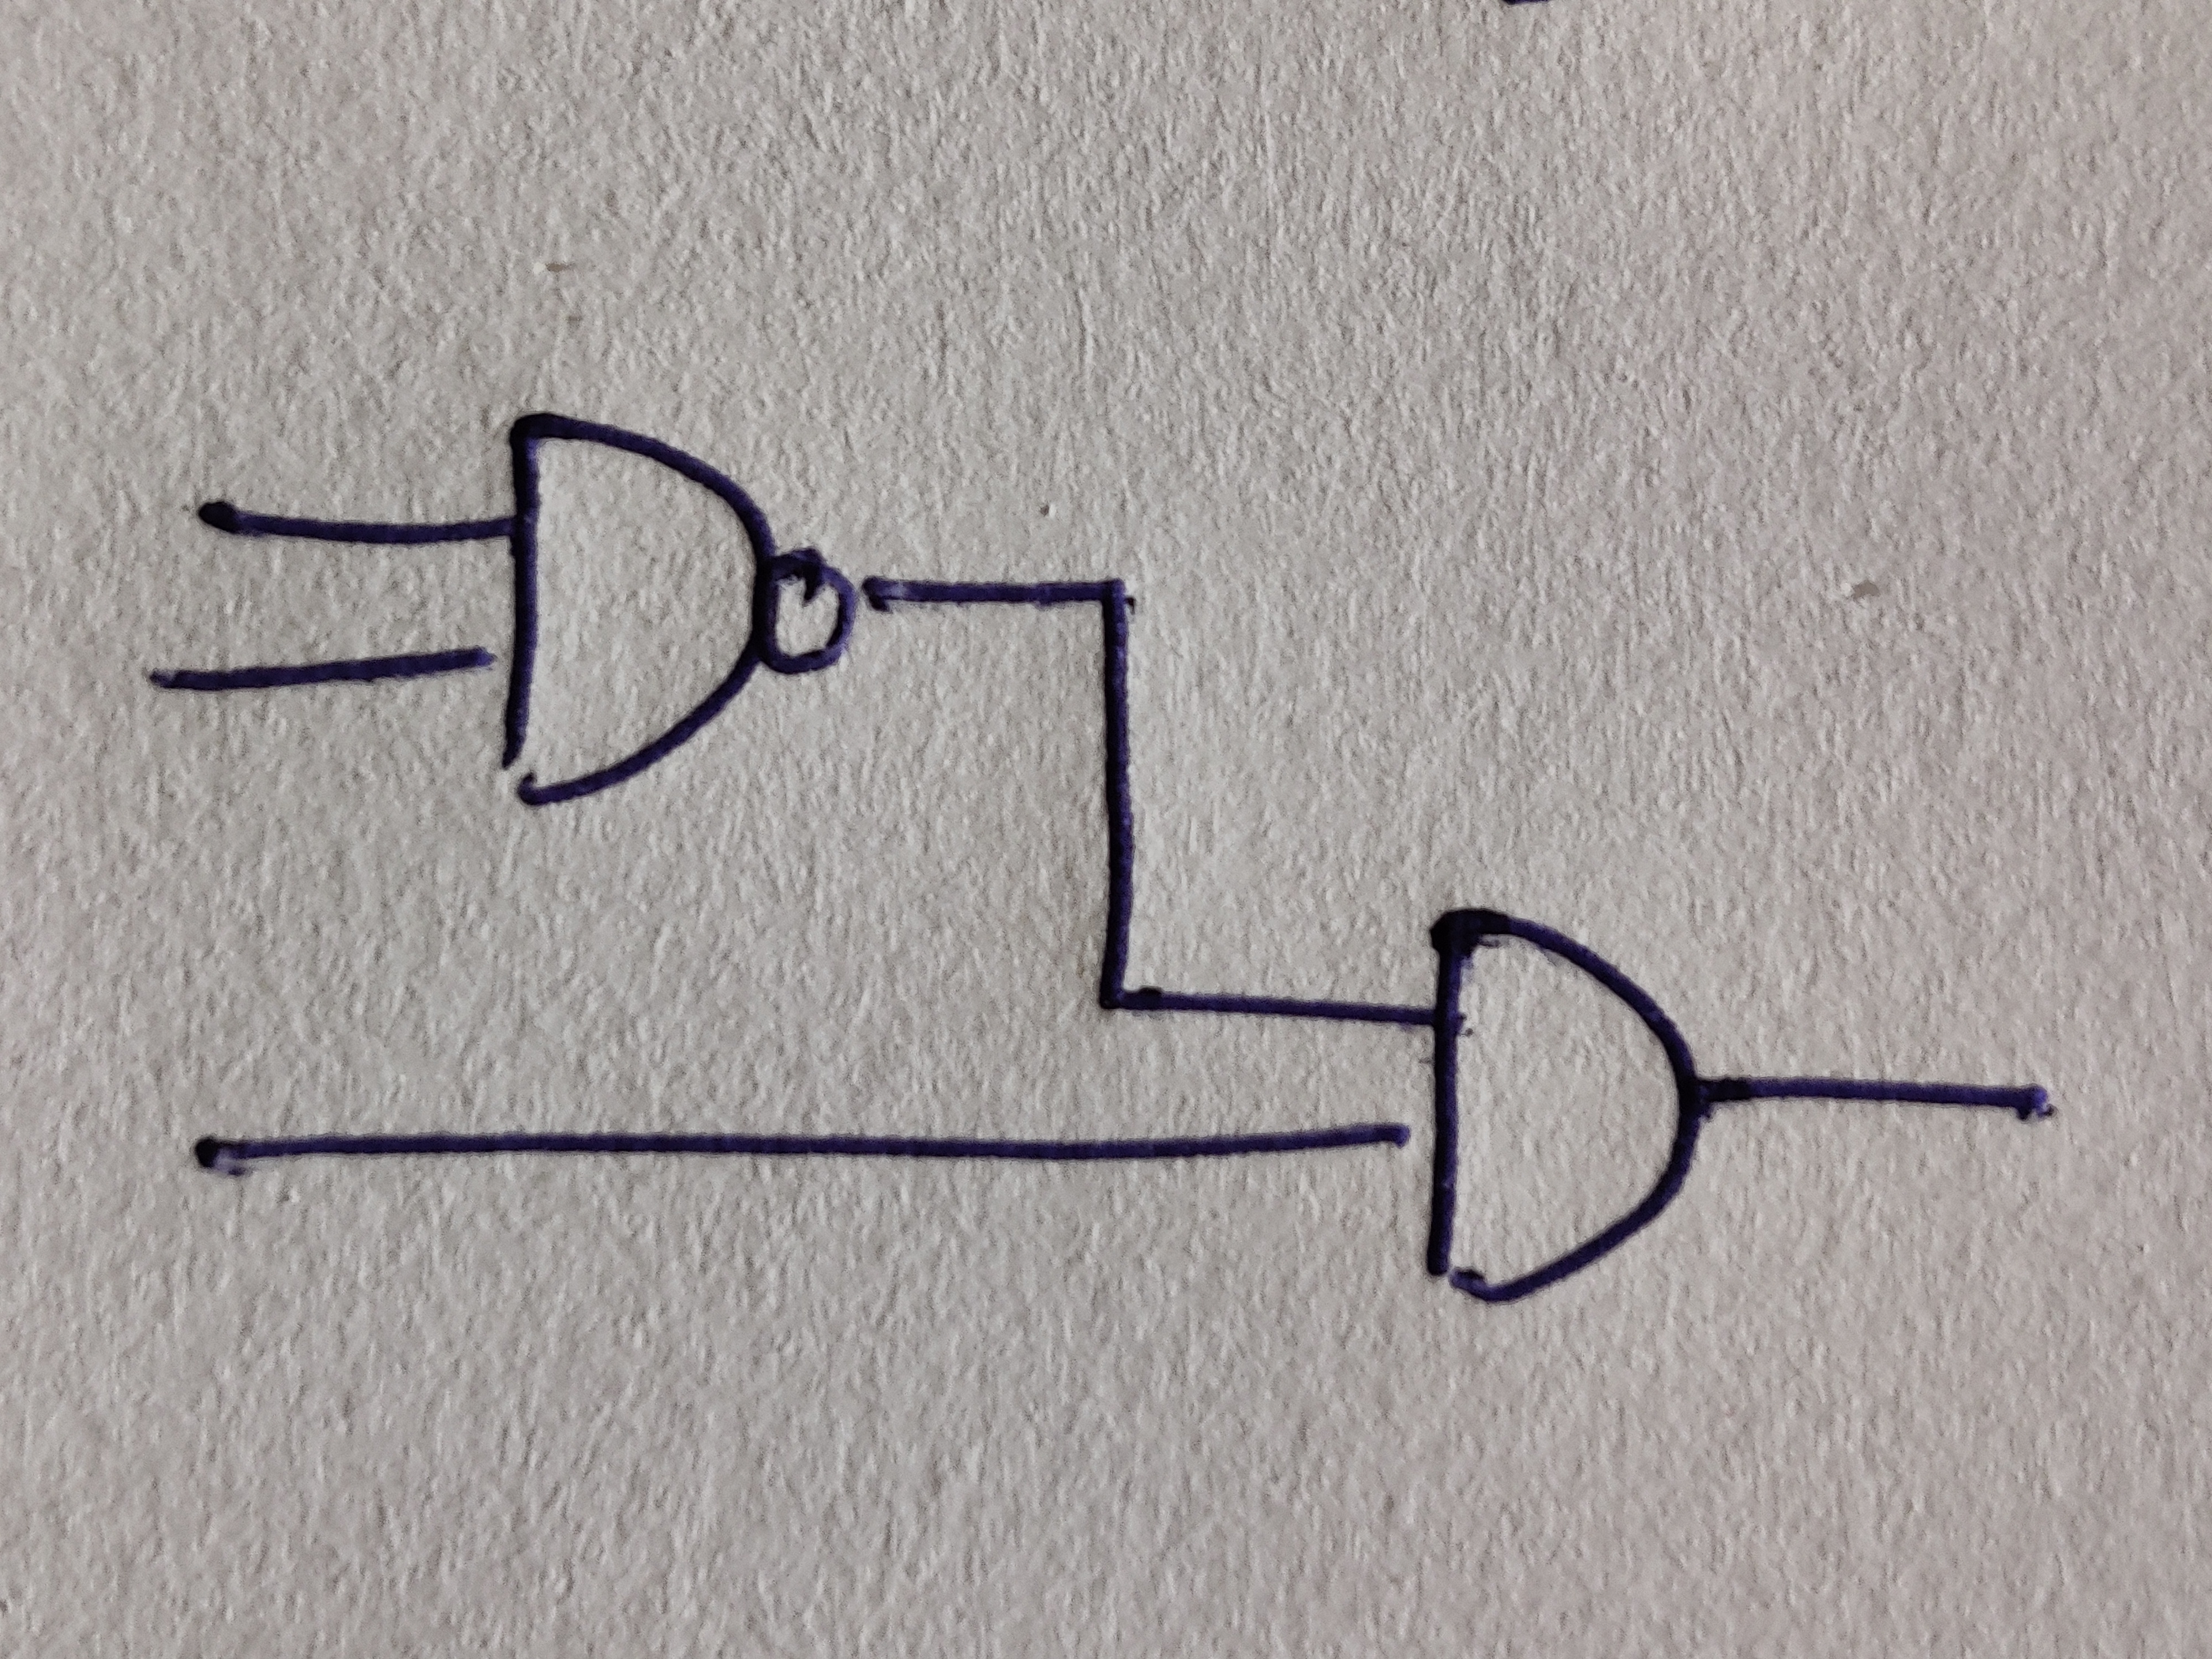and: (502, 411, 779, 805), (1432, 908, 1700, 1303)
not: (756, 549, 855, 674)
